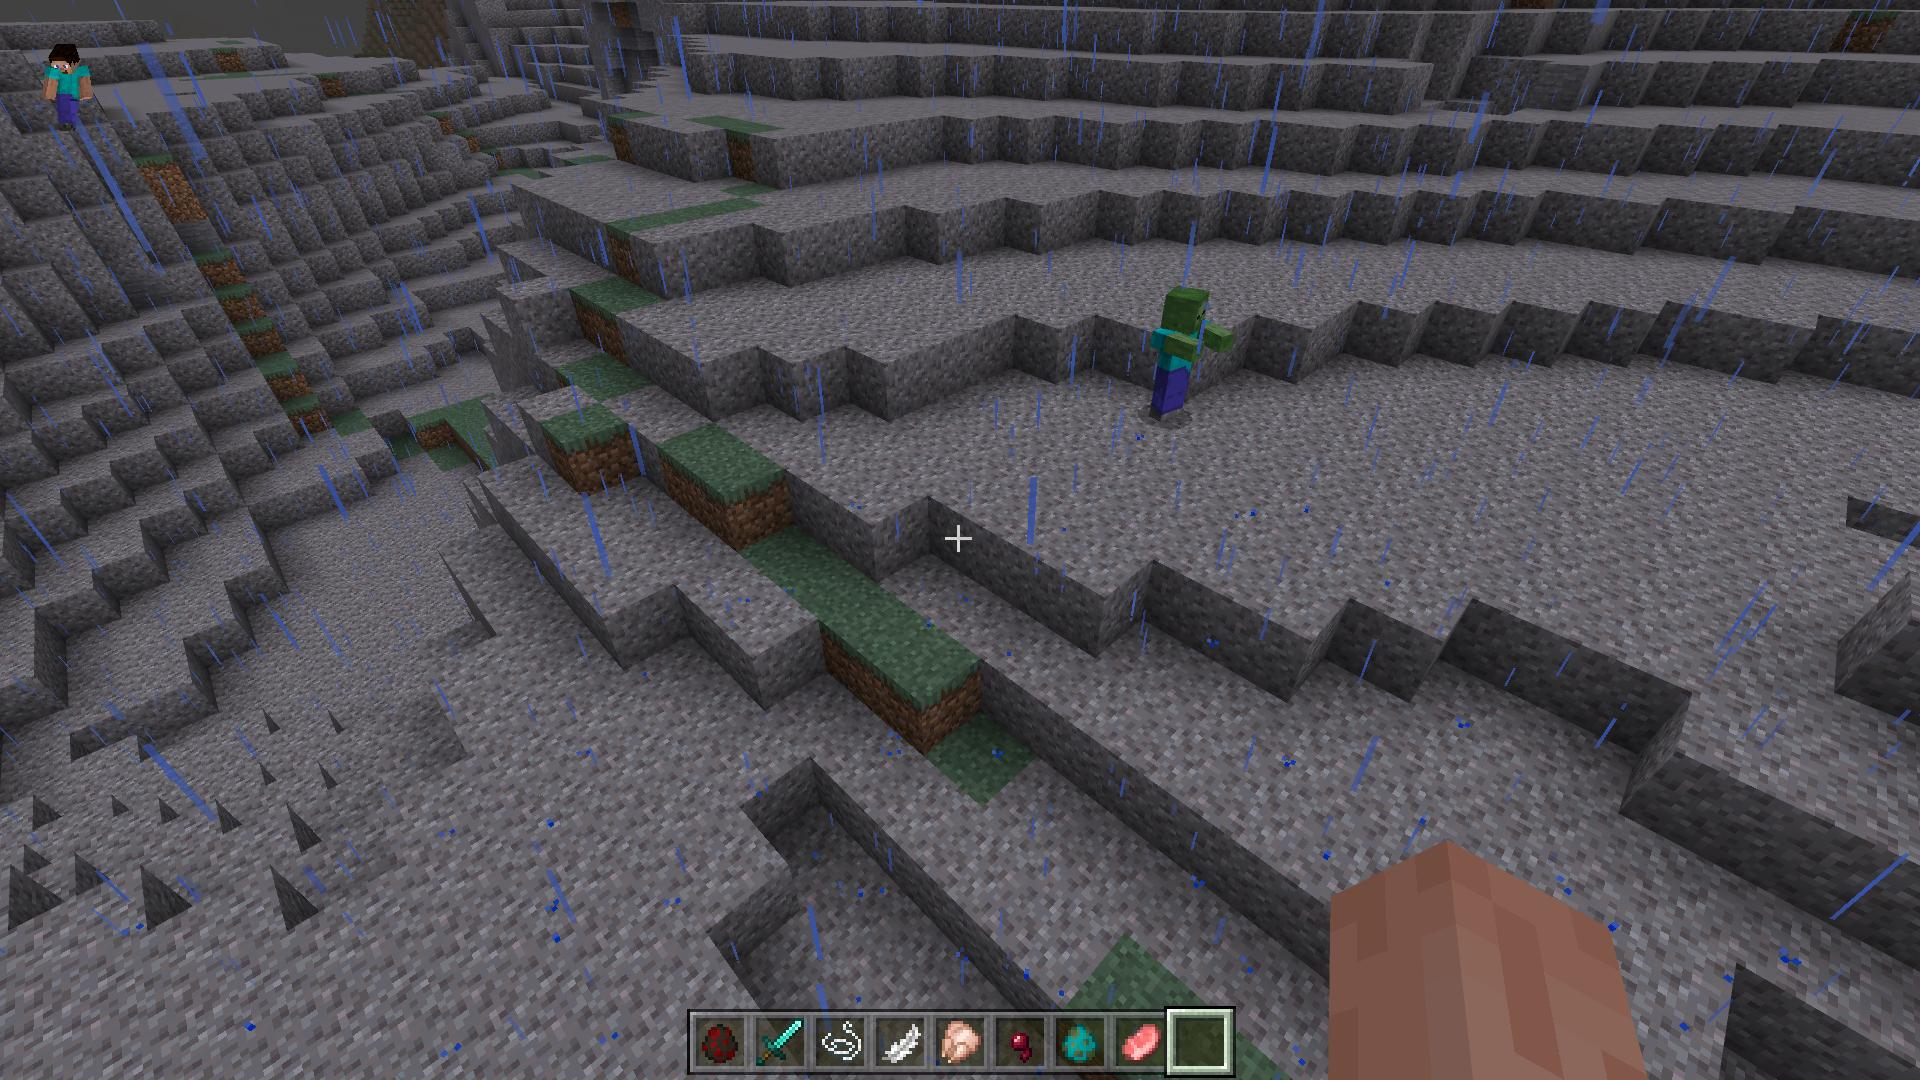zombie: (1145, 282, 1226, 425)
